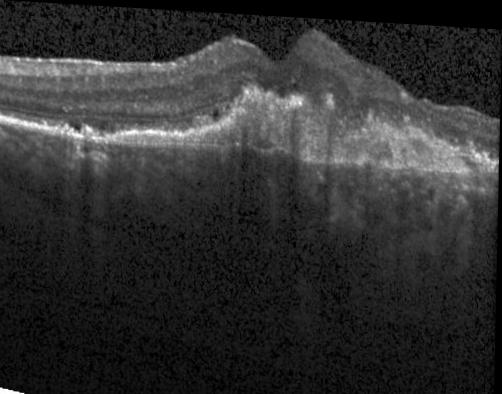subretinal_hyperreflective_material: (116, 81, 499, 167)
